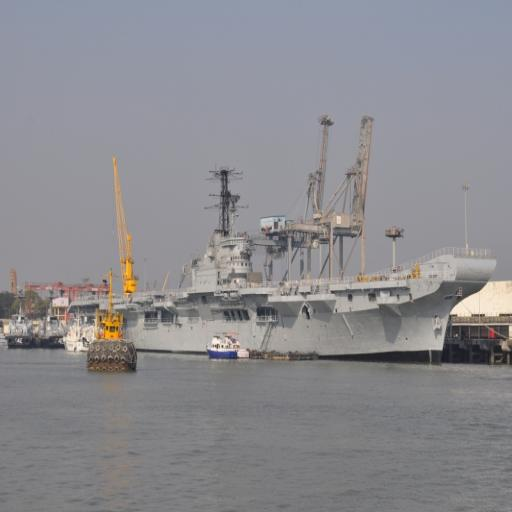Portanaves: (79, 141, 505, 366)
